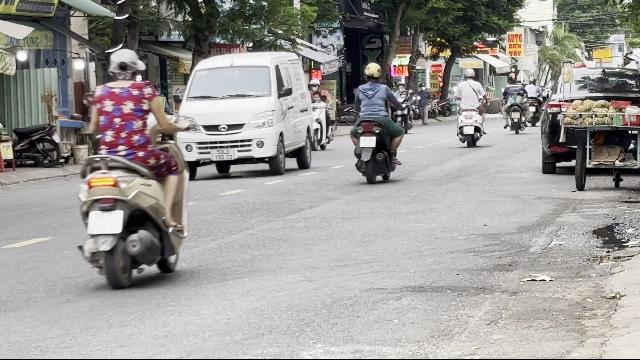helmet: (363, 62, 382, 82)
licenseplate: (87, 210, 121, 234), (359, 136, 376, 148)
motorcyclist: (71, 46, 195, 288), (348, 61, 404, 183)
nohelmet: (105, 47, 145, 83)
